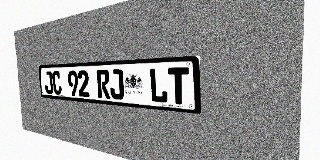2: (77, 70, 90, 97)
9: (67, 70, 79, 96)
C: (52, 71, 62, 95)
J: (109, 69, 124, 100), (44, 71, 53, 94)
L: (149, 68, 168, 103)
R: (96, 69, 110, 99)
T: (168, 67, 189, 105)
